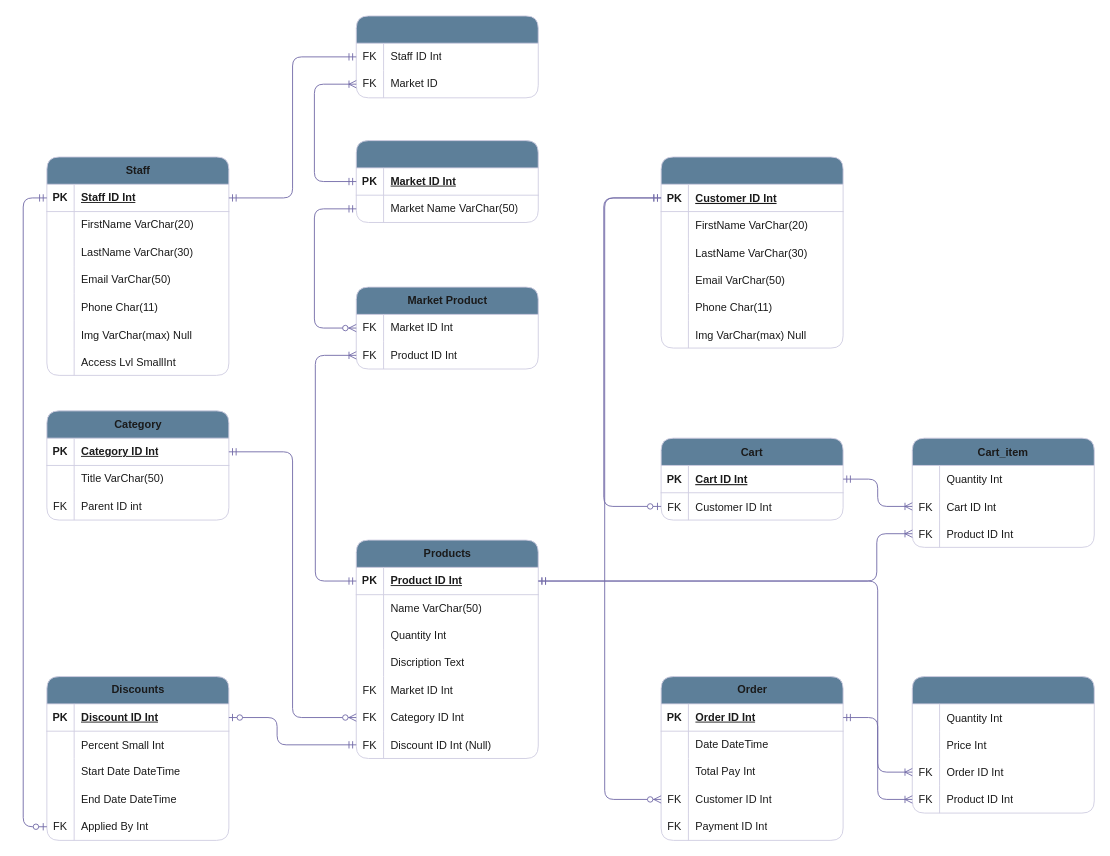
This 1110x856 diagram has some shape labels left out. The box of each missing label's shape, as (x1, y1, x2, y2) in pixels:
Customers: (660, 156, 843, 348)
Markets: (355, 140, 538, 222)
Order_Items: (911, 676, 1094, 813)
Staff Markets: (355, 15, 538, 98)
